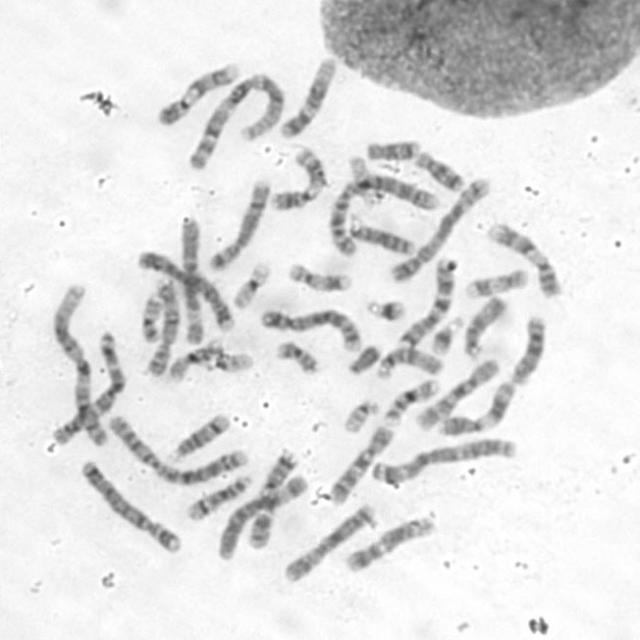A1: (49, 278, 109, 450), (186, 72, 286, 172)
A2: (105, 413, 249, 485), (328, 173, 442, 259)
A3: (49, 329, 127, 448), (368, 436, 520, 485)
B4: (76, 458, 185, 556), (134, 250, 236, 334)
B5: (389, 176, 492, 284), (259, 306, 364, 353)
C10: (415, 356, 501, 431), (327, 423, 395, 508)
C11: (436, 381, 518, 441), (269, 143, 328, 212)
C12: (342, 516, 438, 574), (276, 54, 338, 141)
C6: (214, 474, 313, 562), (180, 213, 202, 344)
C7: (394, 257, 456, 350), (248, 445, 302, 550)
C8: (207, 176, 273, 273), (143, 275, 181, 379)
C9: (486, 218, 565, 300), (152, 59, 244, 127)
D13: (349, 213, 418, 256), (507, 314, 548, 386)
D14: (186, 474, 255, 523), (172, 410, 234, 459)
D15: (462, 292, 508, 362), (376, 345, 447, 378)
E16: (381, 376, 444, 428), (168, 340, 224, 380)
E17: (459, 267, 528, 300), (286, 261, 353, 292)
E18: (415, 151, 466, 193), (364, 138, 421, 164)
F19: (229, 259, 270, 312), (344, 153, 381, 206)
F20: (276, 338, 323, 376), (137, 293, 163, 342)
G21: (429, 313, 466, 356), (366, 296, 406, 323)
G22: (340, 399, 380, 434), (203, 351, 256, 373)
X: (282, 499, 376, 585)
Y: (347, 342, 381, 378)
